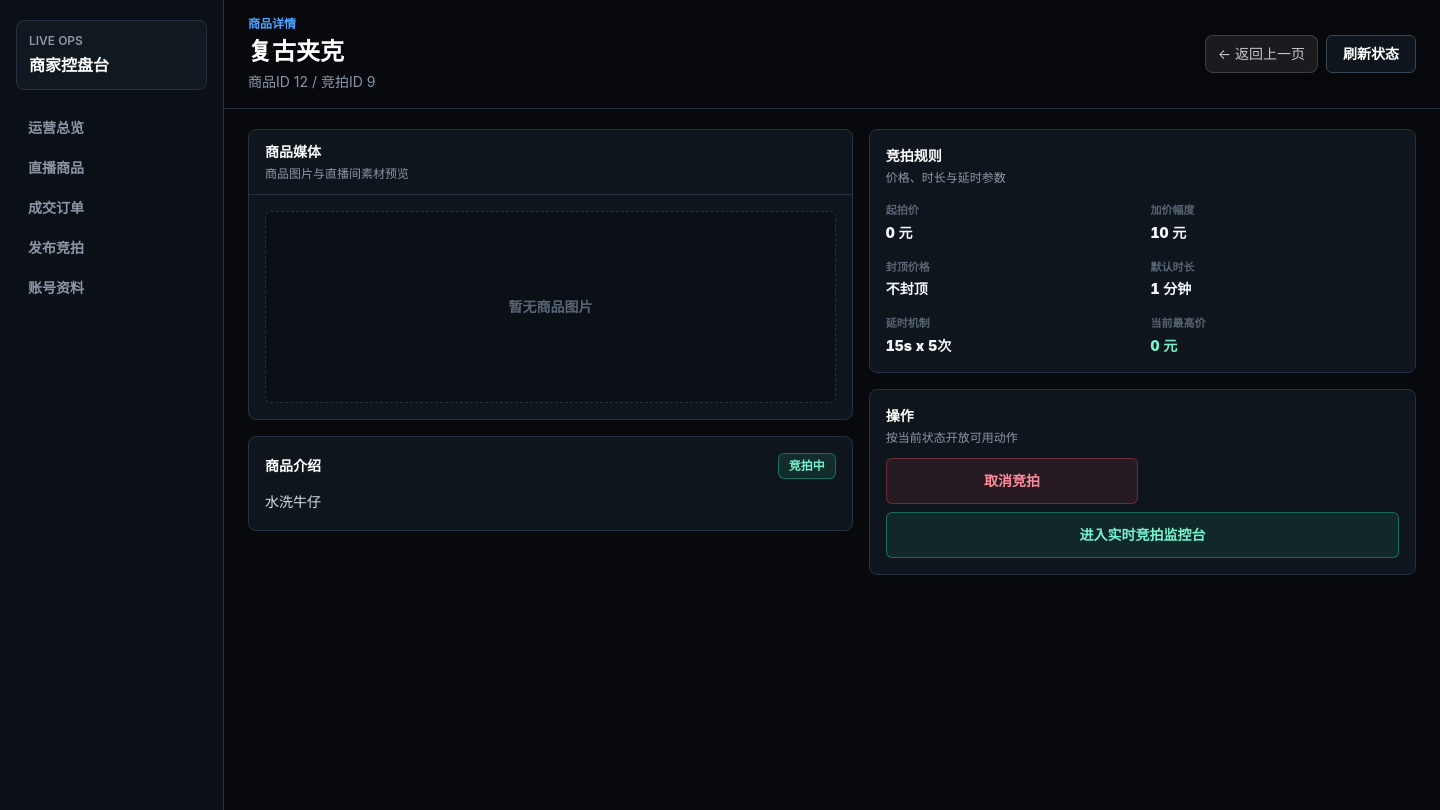
Scenario: ProductDetail › shows the backend cancellation error when active auction cancellation is blocked
Click the button "取消竞拍" at (1012, 480), box 886,458 -> 1138,504
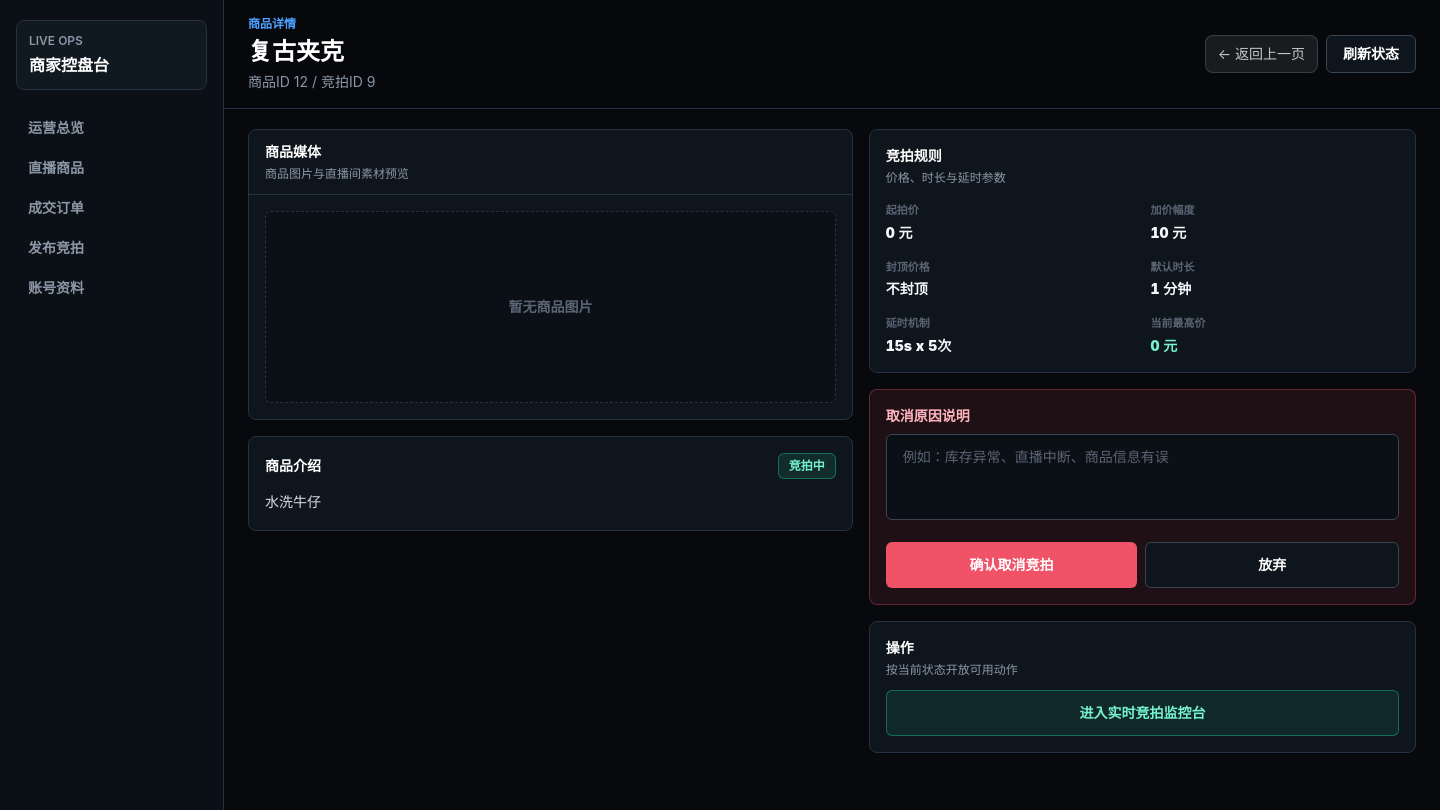
Type "价格异常" into the text box labelled "取消原因" at (1142, 476), box 886,434 -> 1399,520
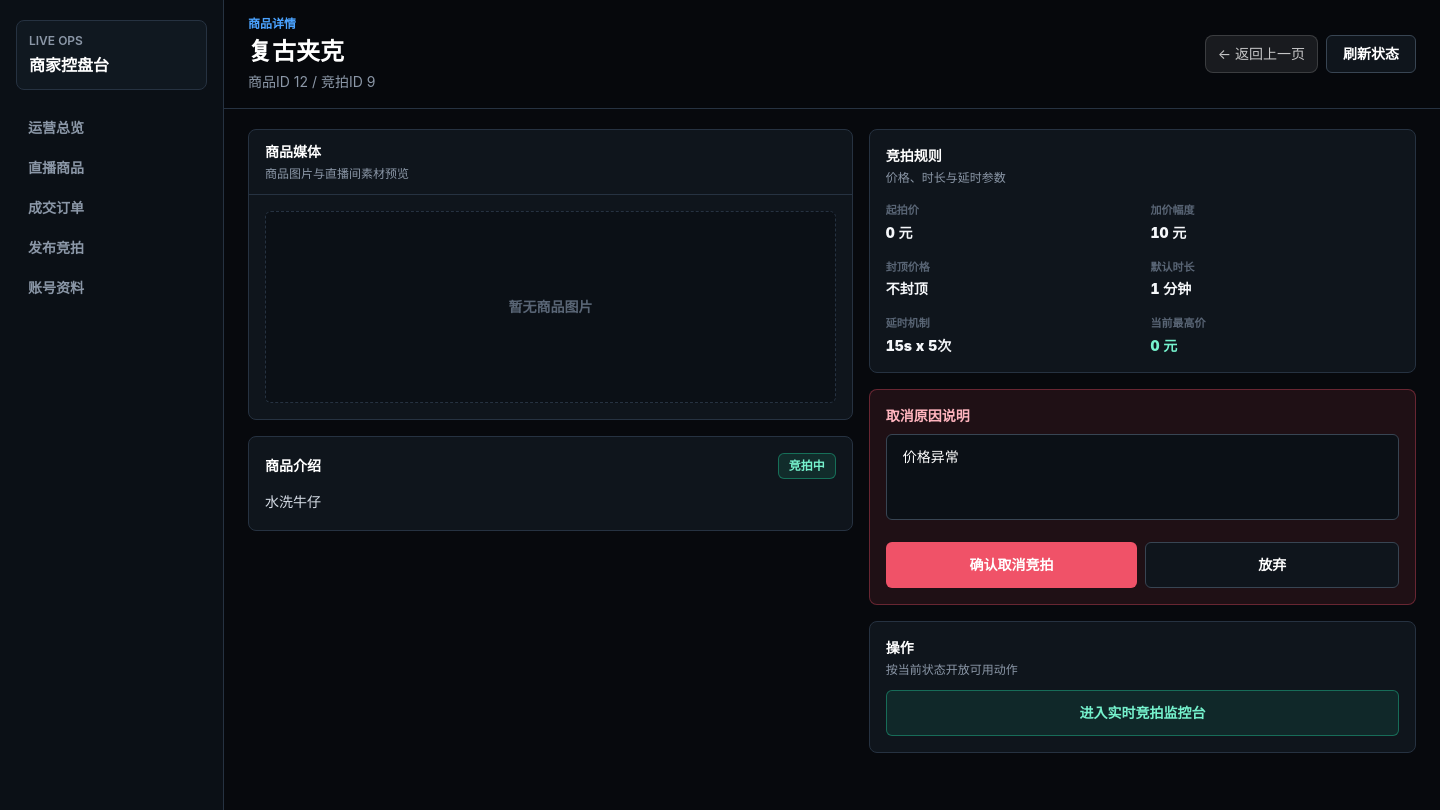
Click the button "确认取消竞拍" at (1012, 564), box 886,542 -> 1137,588
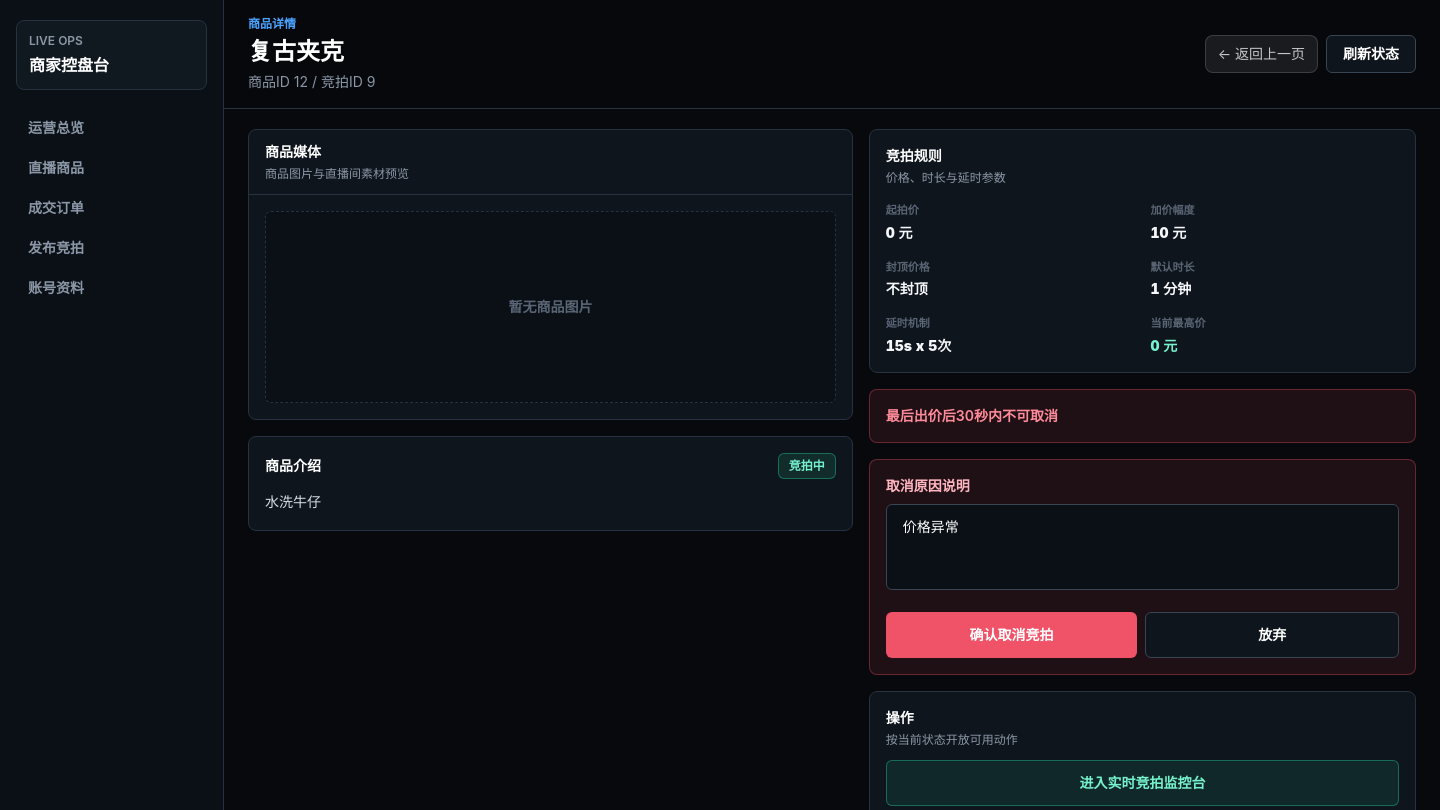
Now the text "最后出价后30秒内不可取消" is shown, box 869,388 -> 1416,442
